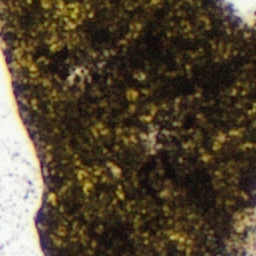cement_matrix: (0, 0, 255, 255)
gravel_crushed_stones: (0, 23, 46, 255), (221, 0, 255, 25), (239, 211, 255, 255)
